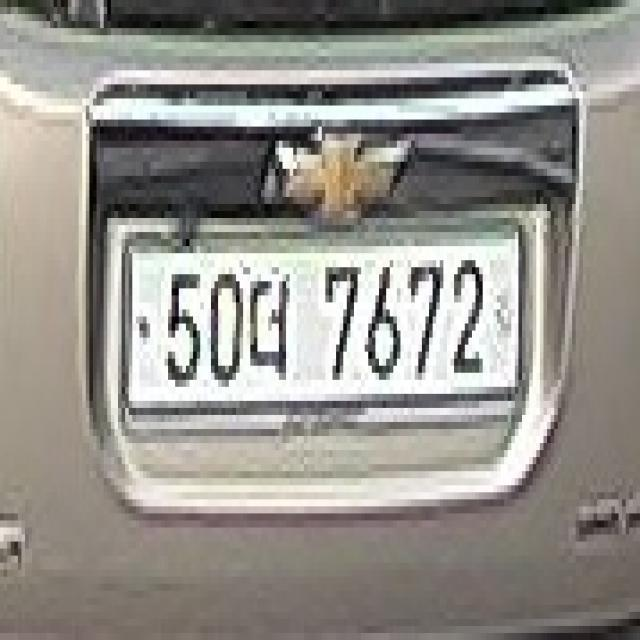0: (210, 266, 244, 386)
2: (450, 248, 496, 383)
5: (166, 266, 201, 386)
6: (366, 255, 399, 383)
7: (318, 264, 362, 385), (408, 258, 446, 382)
deo: (247, 261, 294, 385)
license_plate: (119, 221, 529, 417)
